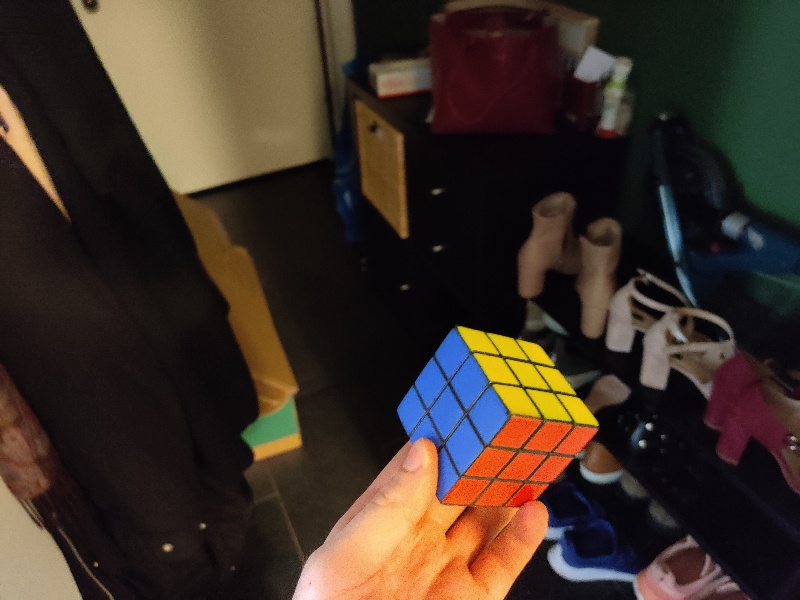rubik: (398, 324, 599, 508)
